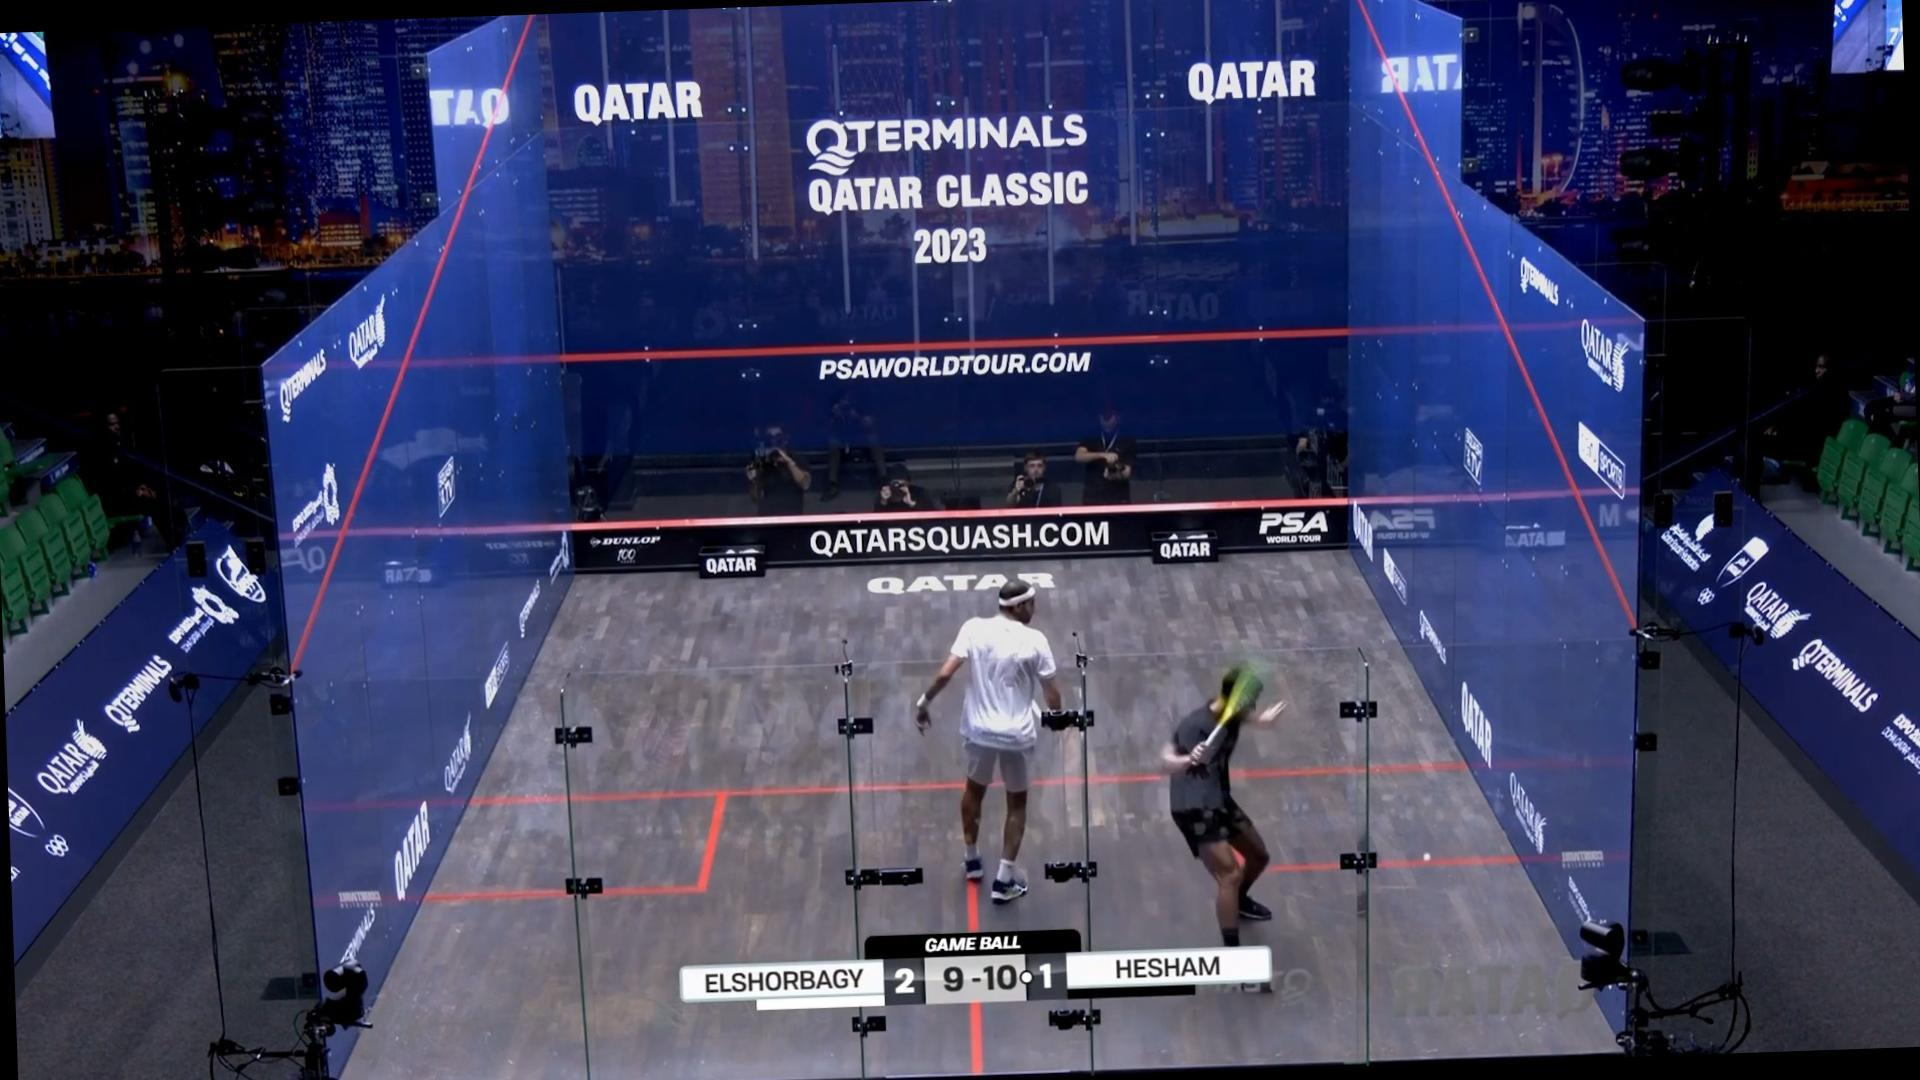Squash-Ball: (1414, 839, 1441, 876)
